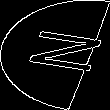N_E: (8, 29, 102, 81)
